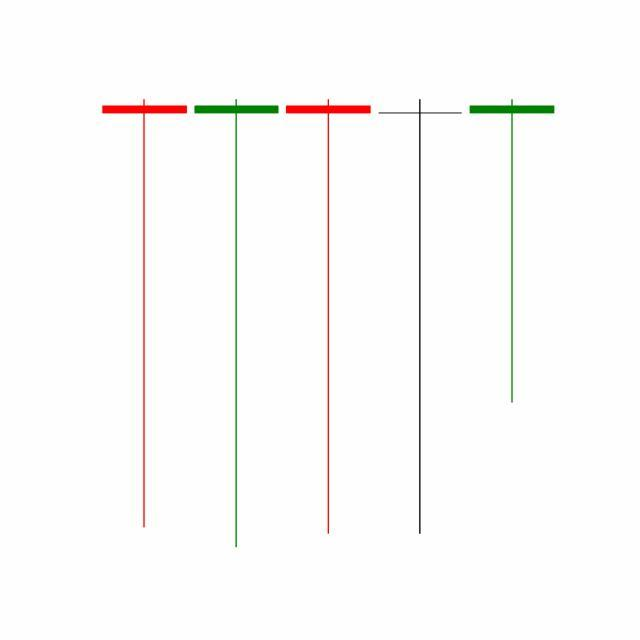Dragonfly Doji: (466, 96, 559, 406)
